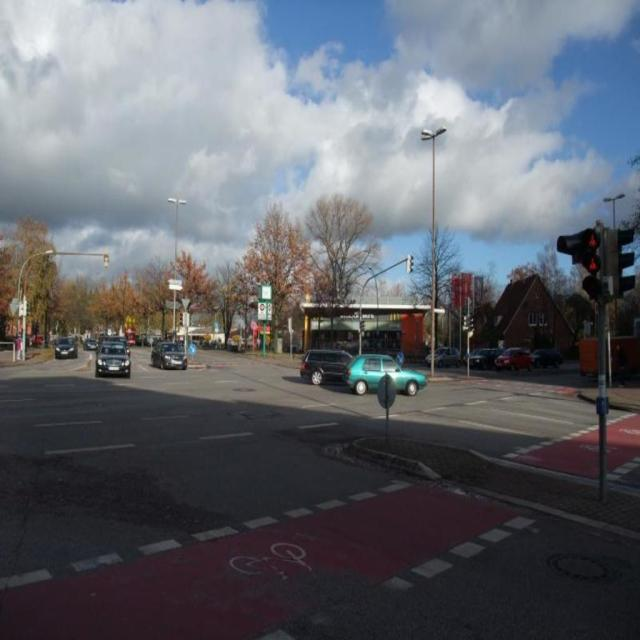off traffic light: (610, 225, 635, 302)
traffic light: (583, 225, 605, 301)
